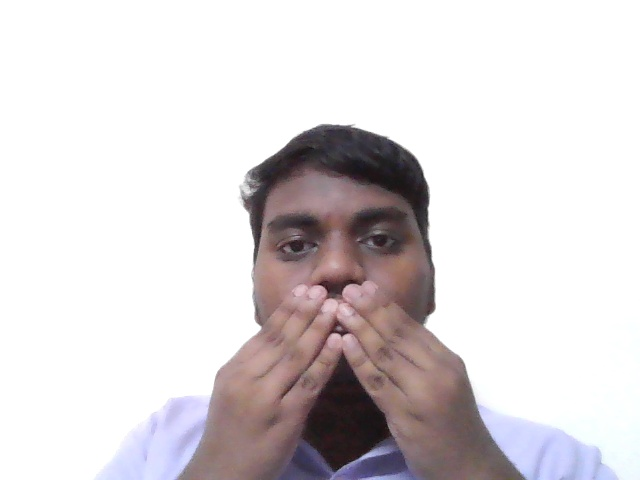Thank you: (179, 281, 486, 457)
